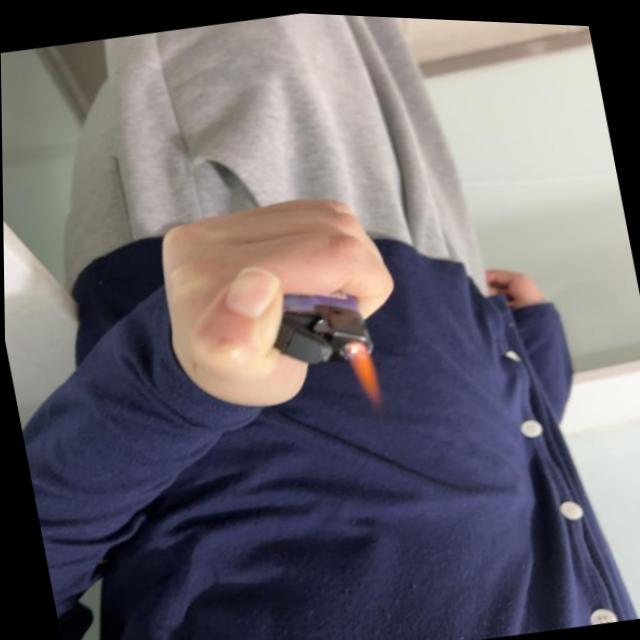Fire: (343, 331, 384, 410)
